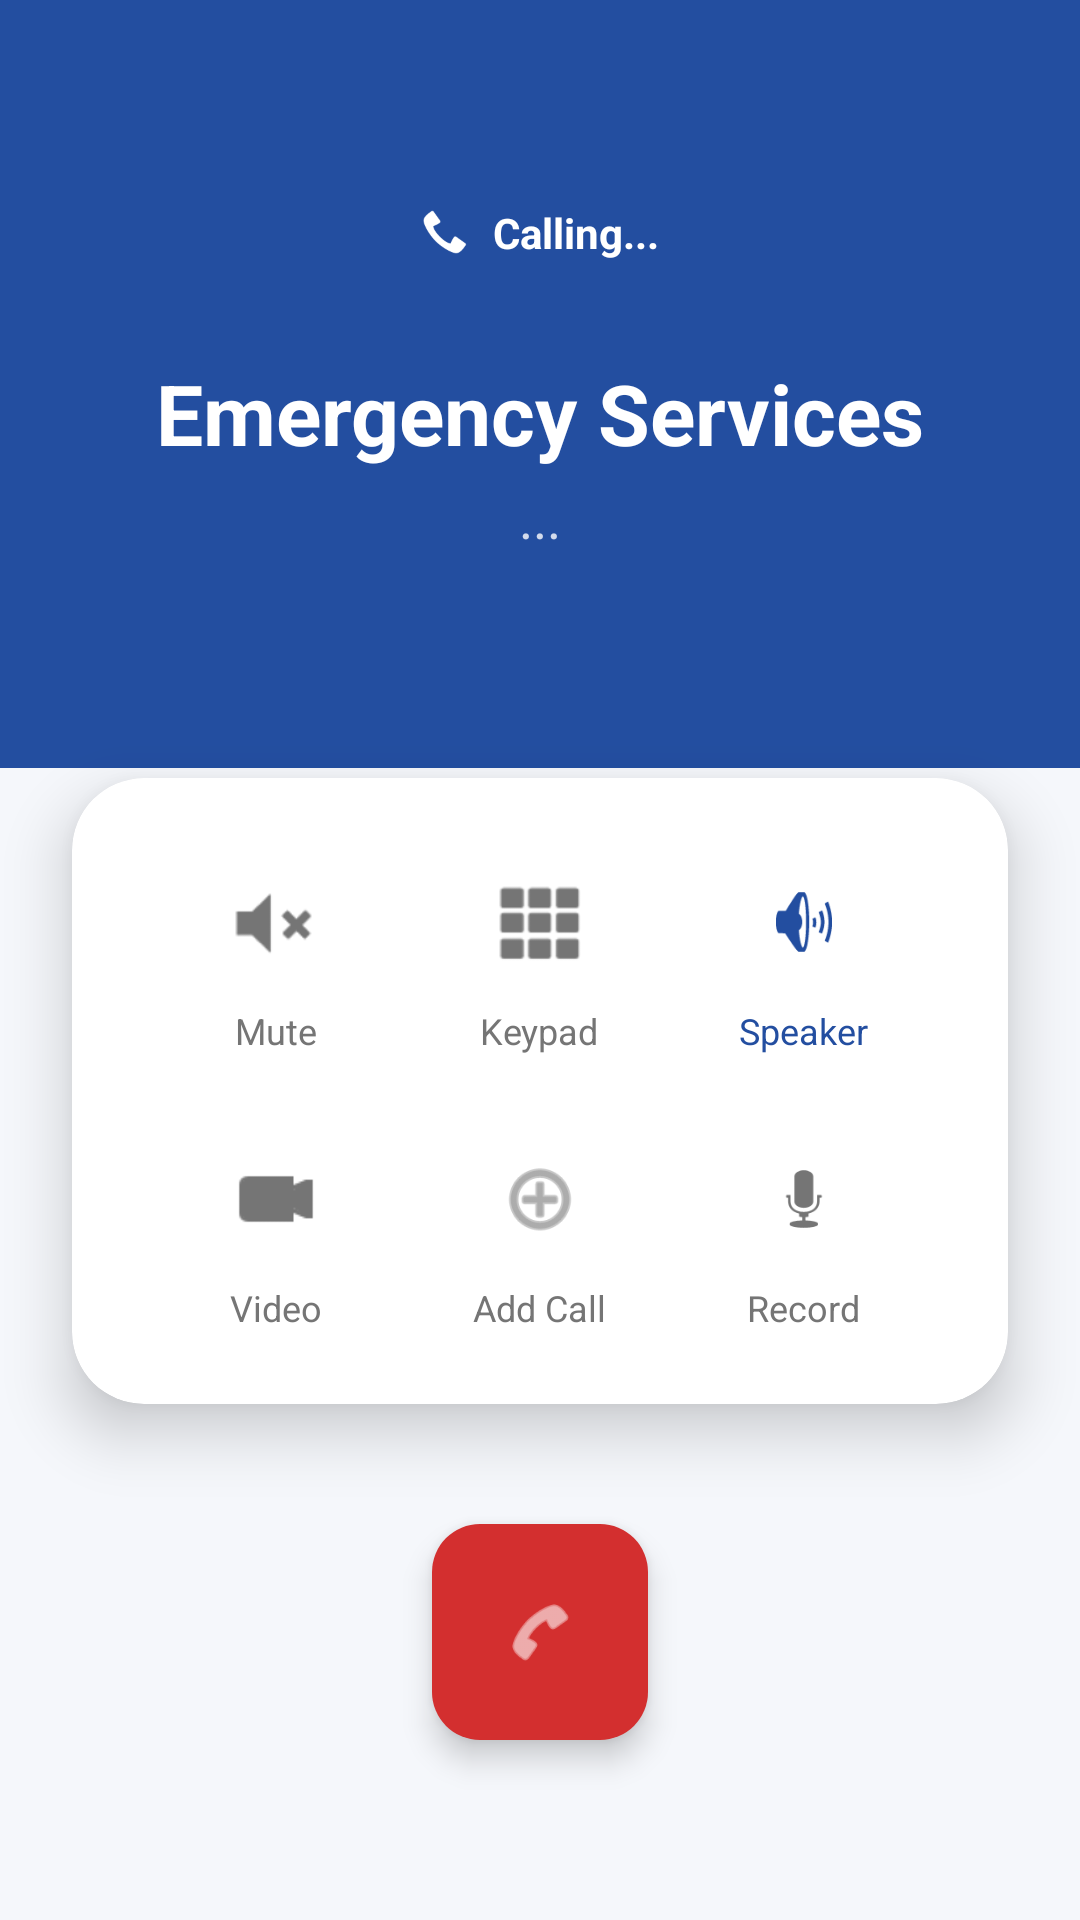

Icon click points for this 1080w x 1920h phone screenshot, format (x=x, y=y):
Call Icon: (x=444, y=232)
dialer: (x=540, y=923)
lock silent mode: (x=273, y=923)
lock silent mode off: (x=804, y=922)
speak now: (x=804, y=1199)
